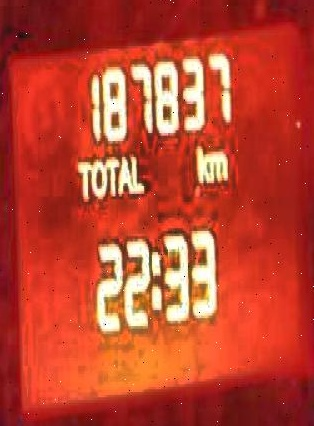1: (90, 61, 100, 141)
2: (94, 236, 120, 328), (124, 233, 148, 328)
3: (189, 225, 216, 323), (163, 228, 188, 323), (180, 54, 204, 128)
7: (208, 43, 233, 125), (129, 56, 151, 132)
8: (153, 53, 178, 135), (101, 59, 125, 141)
X: (208, 146, 228, 183), (90, 154, 105, 199), (150, 247, 160, 313), (130, 148, 145, 191), (117, 151, 130, 196), (76, 156, 89, 199), (105, 154, 119, 193), (197, 140, 208, 183)
